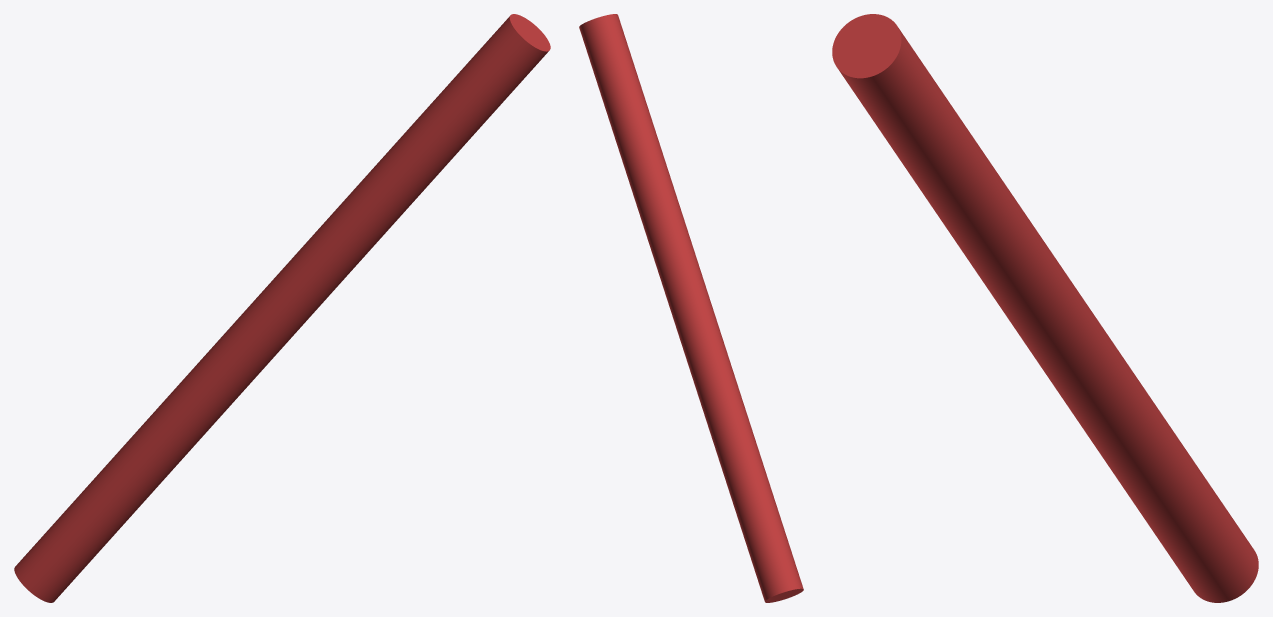
The model's file is triggerred.fbx.
3 views of the same model, side by side, from view 1: azimuth 30°, elevation 25°; view 2: azimuth 150°, elevation 25°; view 3: azimuth 270°, elevation 25° (orthographic). The views are drawn at different scales.
Parts seen in each view (by area): view 1: objects; view 2: objects; view 3: objects.
Boxes of the visible parts, left/top/right/bottom form: objects: left=14, top=14, right=550, bottom=602; objects: left=579, top=14, right=803, bottom=602; objects: left=832, top=14, right=1258, bottom=602.
Size of the model in its own units: 1.78 by 1.17 by 2.46.
